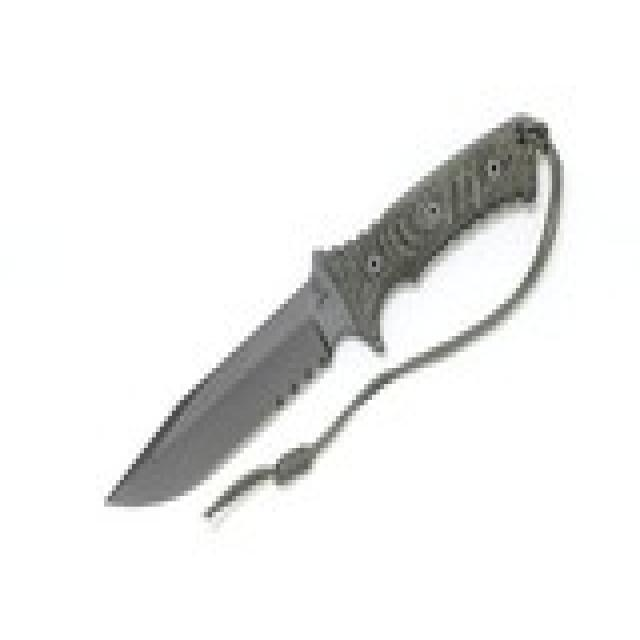Knife: (89, 115, 560, 517)
